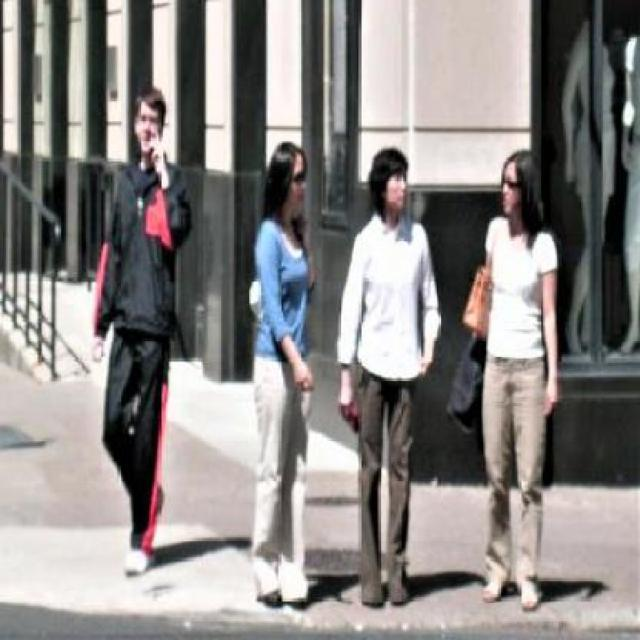Person: (92, 78, 194, 584), (342, 146, 444, 616), (480, 146, 562, 612), (247, 137, 316, 608)
